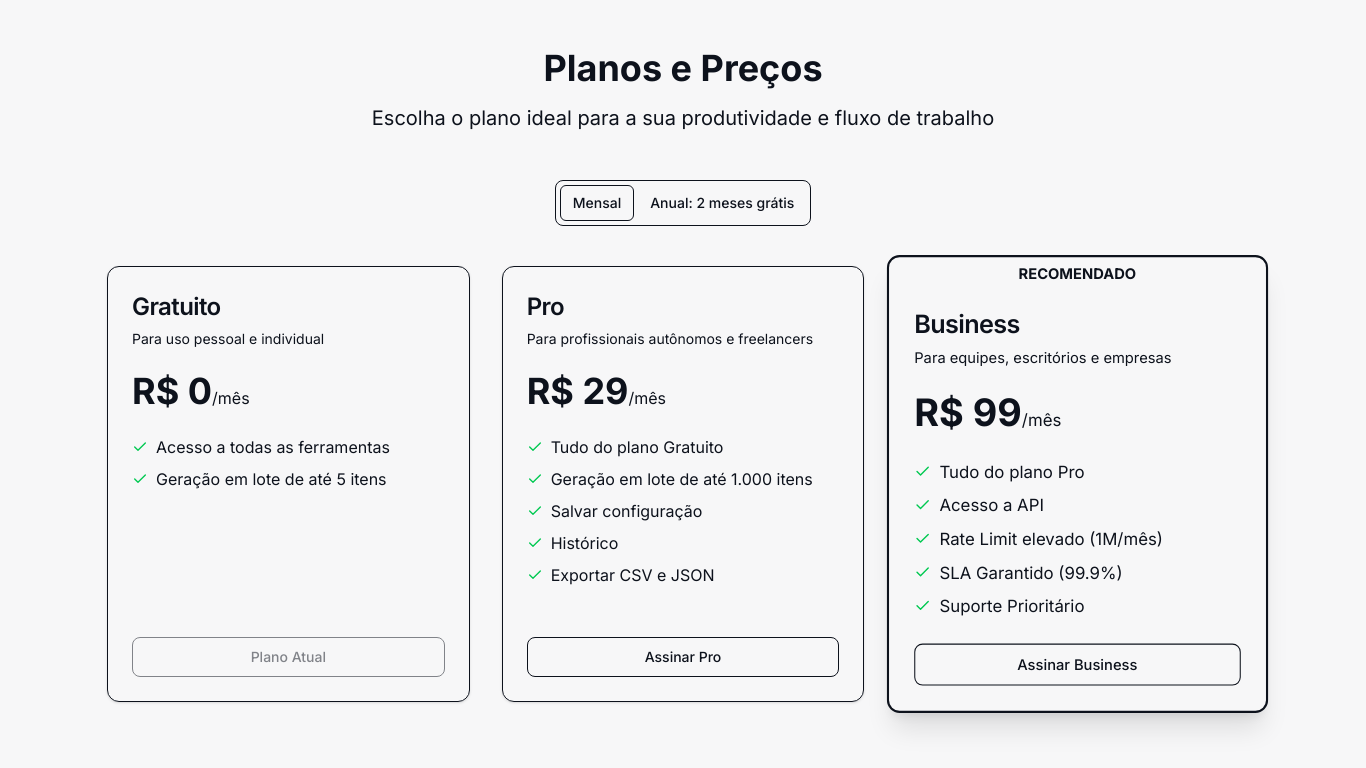
Seleção de cobrança na página de preços › troca preço e botão dos dois planos ao escolher Anual
Click the button "Anual: 2 meses grátis": (722, 203) [638, 185, 806, 221]
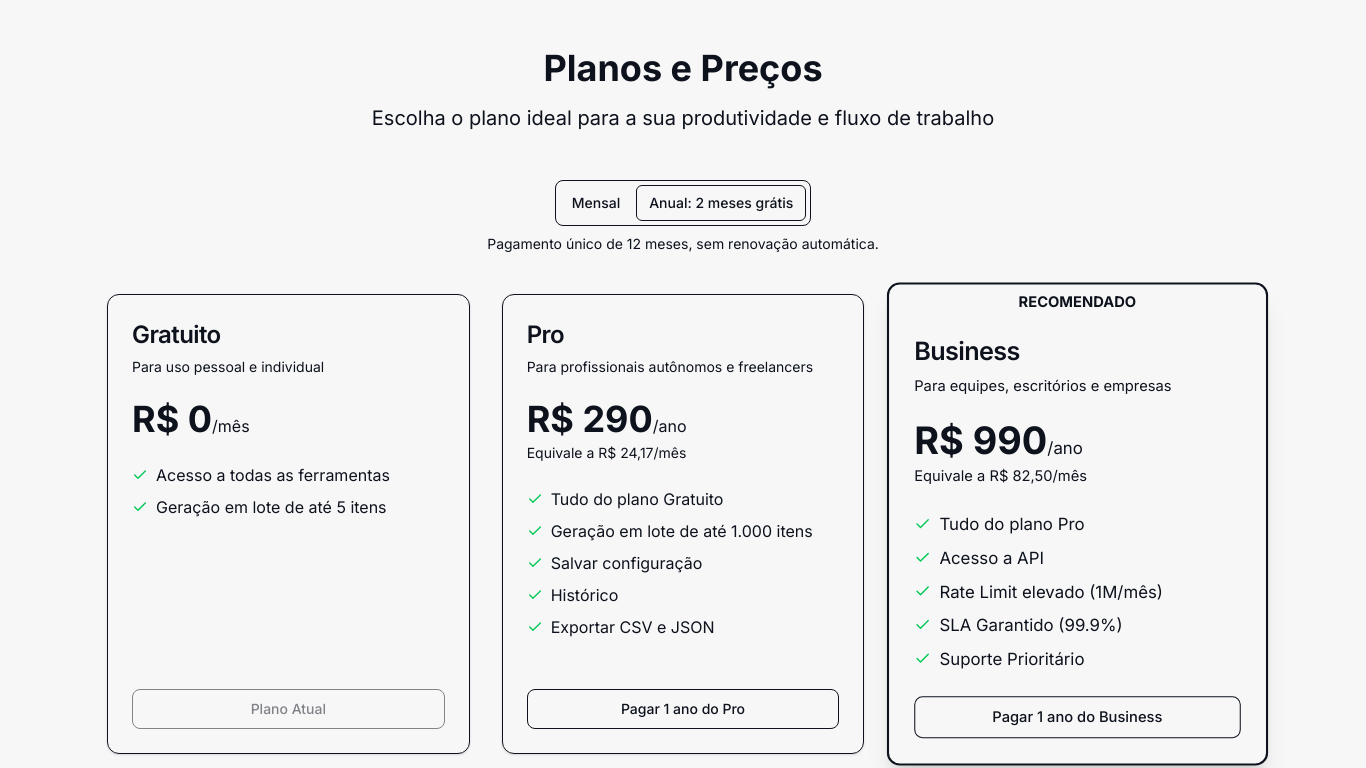
Expected: the text "R$ 290/ano" is shown, [527, 397, 687, 461]
Expected: the text "R$ 990/ano" is shown, [915, 417, 1087, 484]
Expected: the text "R$ 29/mês" is gone
